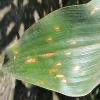Corn leaf blight: (3, 12, 99, 95)
